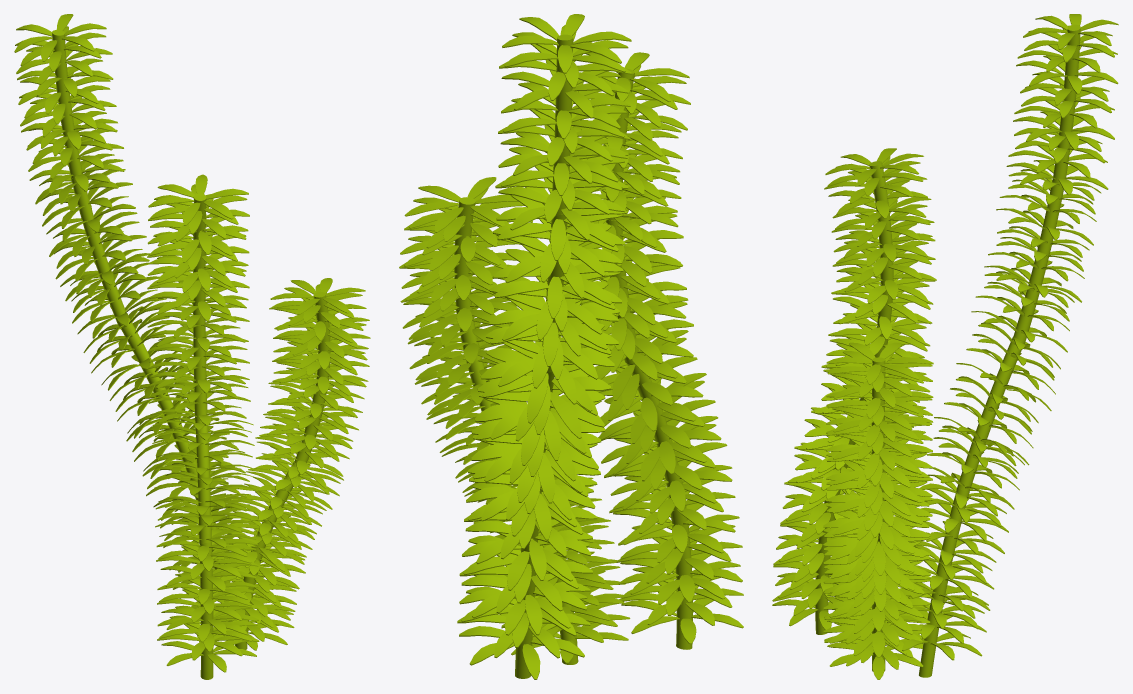
File: WasserpestFBX.fbx
3 renders of one model, left to right at view 1: azimuth 30°, elevation 25°; view 2: azimuth 150°, elevation 25°; view 3: azimuth 270°, elevation 25°, orthographic. The views are drawn at different scales.
Parts seen in each view (by area): view 1: Wasserpest; view 2: Wasserpest; view 3: Wasserpest.
Part boxes in pixels (x1,y1,x2,y2): Wasserpest: [14, 14, 370, 679]; Wasserpest: [399, 14, 743, 679]; Wasserpest: [772, 14, 1118, 679].
Size of the model in its own units: 6.79 by 7.55 by 14.44.
